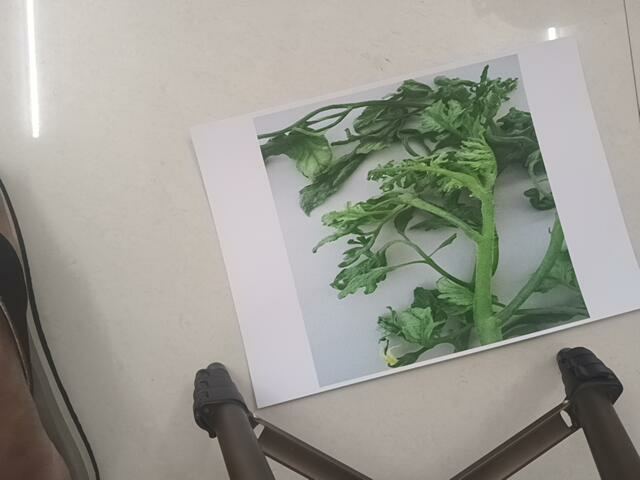Tomamto_Mosaic_virus: (250, 123, 583, 335)
